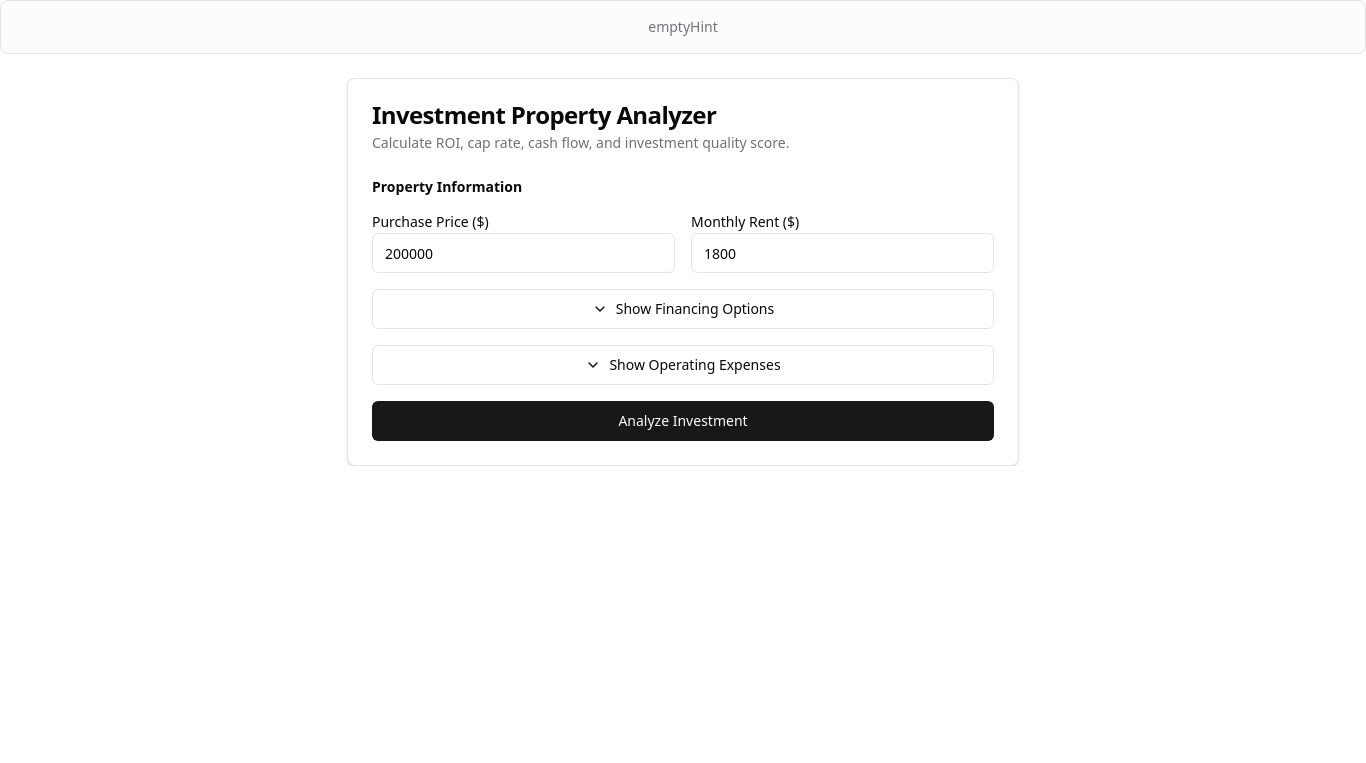
Test: InvestmentAnalyzer › calculates investment analysis on submit
Step 1. Click the button "Analyze Investment" → point(683, 421), box top-left (372, 401), bottom-right (994, 441)
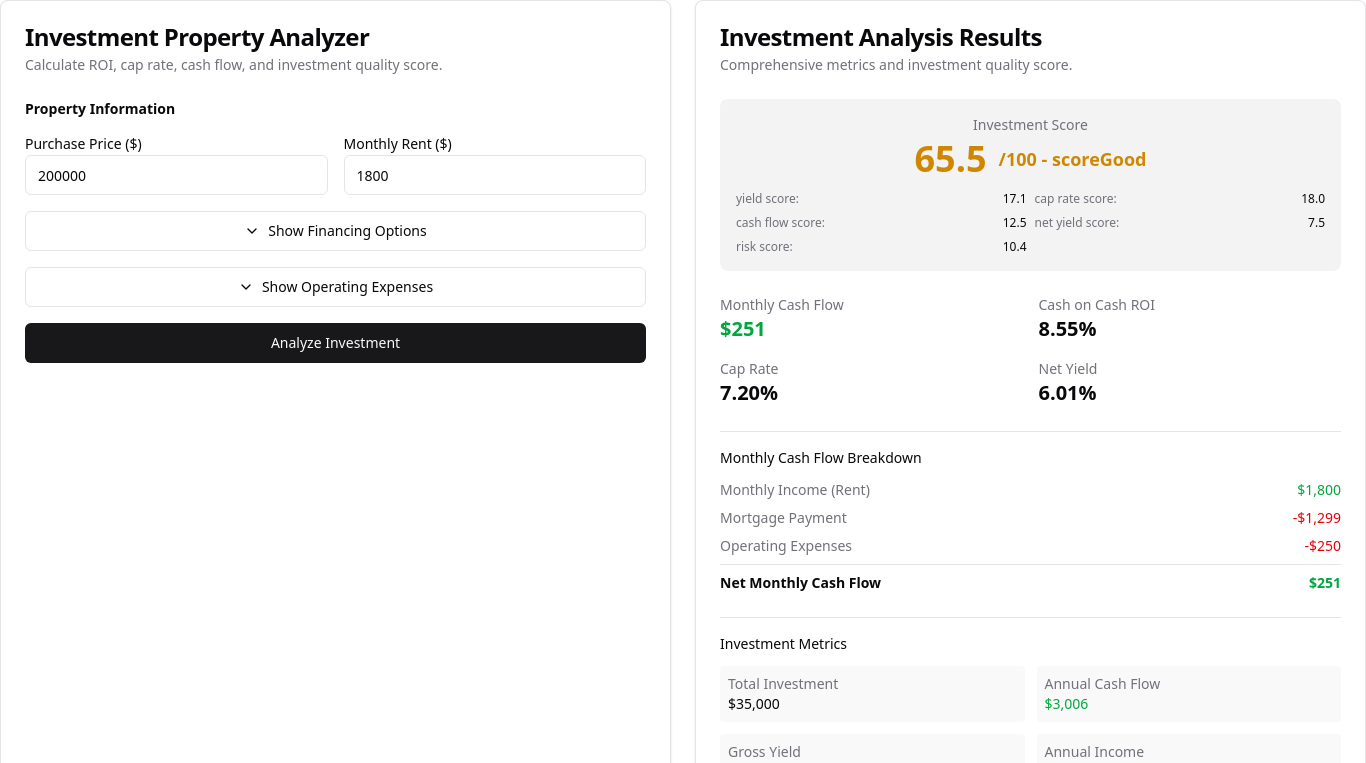
Expected: the heading "Investment Analysis Results" is shown, top-left (720, 20), bottom-right (1042, 53)
Expected: the text "$251" next to "8.55" is shown, top-left (720, 315), bottom-right (766, 342)
